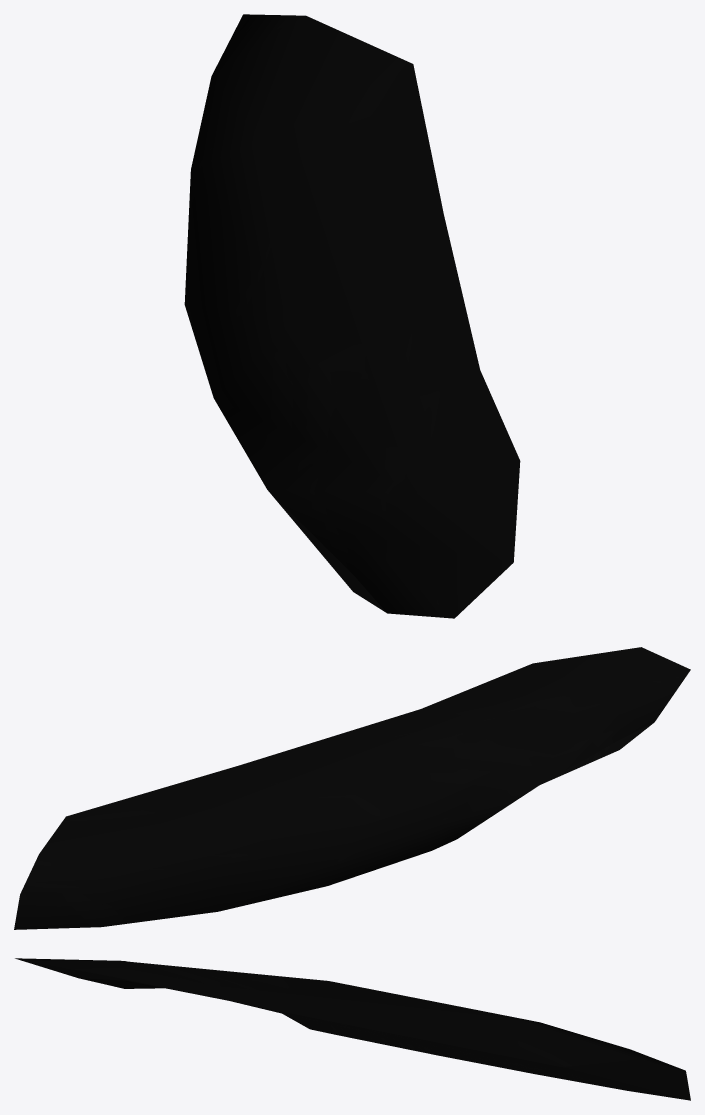
The picture shows the model from 3 angles, top to bottom: view 1: azimuth 30°, elevation 25°; view 2: azimuth 150°, elevation 25°; view 3: azimuth 270°, elevation 25°; orthographic projection. The views are drawn at different scales.
Visible parts, largest first — view 1: Cylinder_cell.001; view 2: Cylinder_cell.001; view 3: Cylinder_cell.001.
Boxes of the visible parts, box(x1,y1,x2,y2) form: Cylinder_cell.001: box(184, 14, 520, 618); Cylinder_cell.001: box(14, 647, 690, 929); Cylinder_cell.001: box(15, 958, 690, 1100).
Bounding box in the file's own units: 0.0537 × 0.0146 × 0.1234.
Materials: 1 (1 with a texture image).
